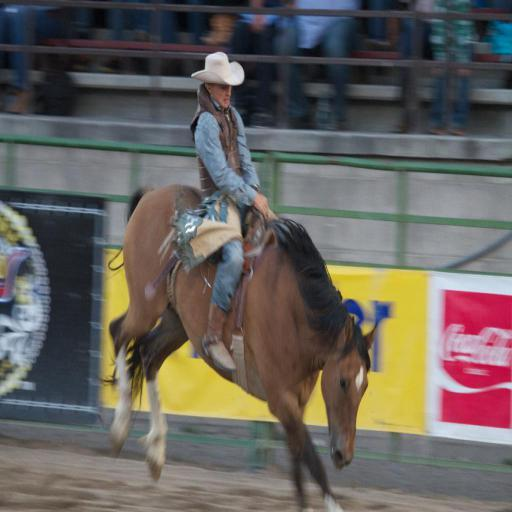Horse: (95, 185, 378, 511)
